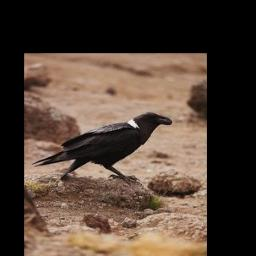Crow: (32, 110, 175, 188)
